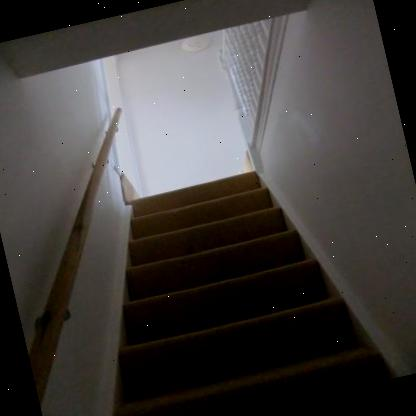stair: (73, 126, 376, 416)
